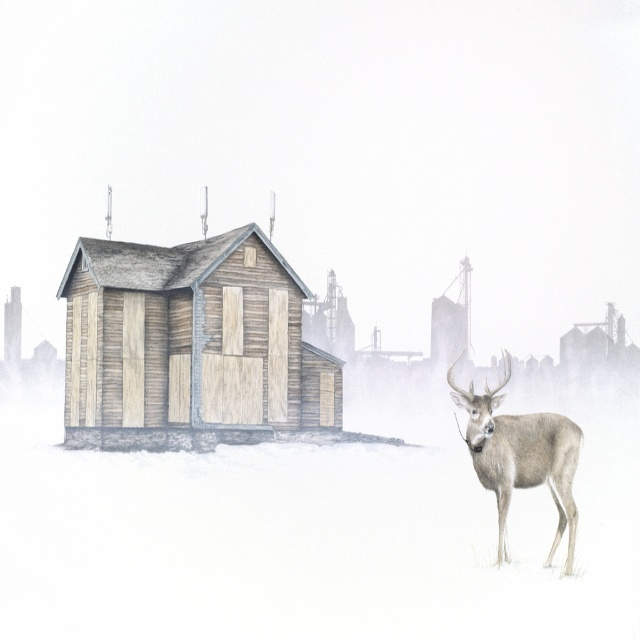Deer: (448, 349, 581, 580)
